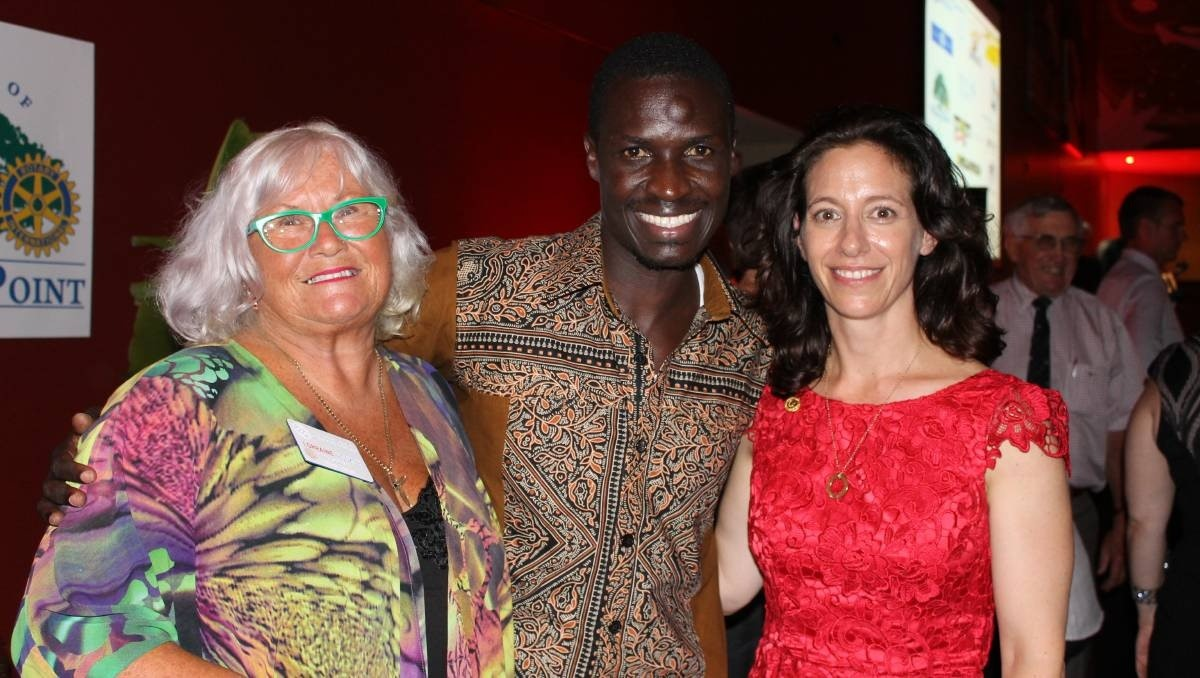face_no_mask: (579, 34, 743, 271), (778, 116, 958, 320), (241, 126, 404, 345), (1116, 186, 1190, 266)
